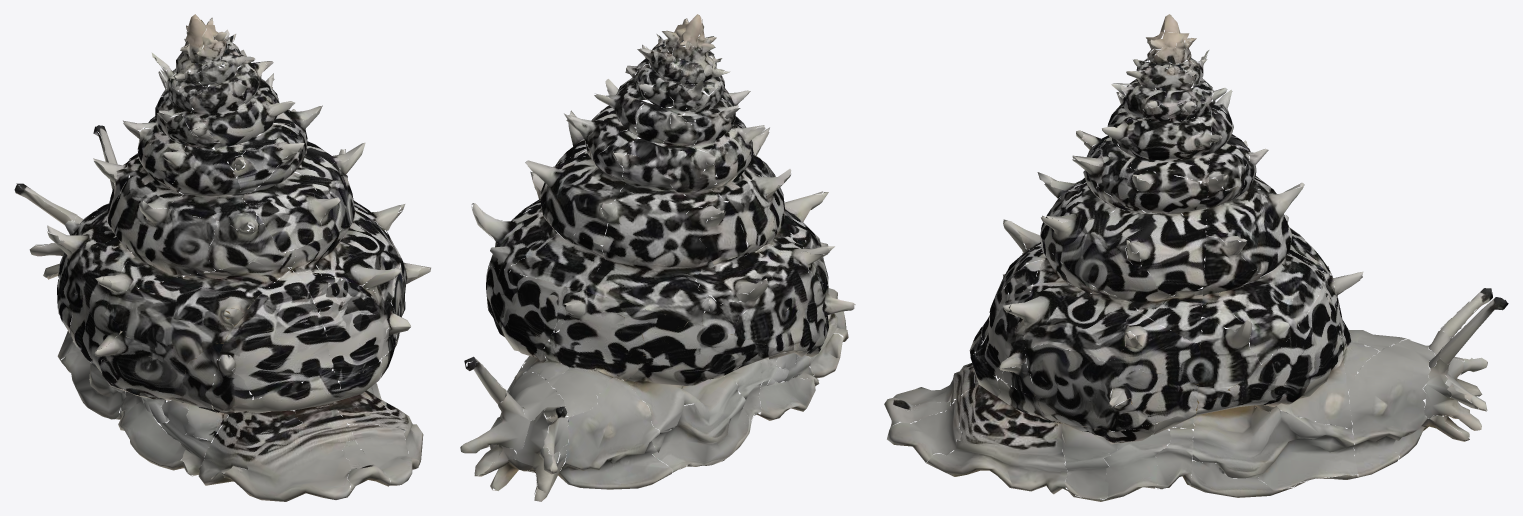
Rendered from pyramid_snail.glb.
3 renders of one model, left to right at view 1: azimuth 30°, elevation 25°; view 2: azimuth 150°, elevation 25°; view 3: azimuth 270°, elevation 25°, orthographic. The views are drawn at different scales.
Parts seen in each view (by area): view 1: tripo_node_659bcbec-3bbc-44ab-a3c4-04ab2b5dbf50; view 2: tripo_node_659bcbec-3bbc-44ab-a3c4-04ab2b5dbf50; view 3: tripo_node_659bcbec-3bbc-44ab-a3c4-04ab2b5dbf50.
Part boxes in pixels (<box>): tripo_node_659bcbec-3bbc-44ab-a3c4-04ab2b5dbf50: <box>14,14,430,501</box>; tripo_node_659bcbec-3bbc-44ab-a3c4-04ab2b5dbf50: <box>460,14,855,501</box>; tripo_node_659bcbec-3bbc-44ab-a3c4-04ab2b5dbf50: <box>884,14,1508,501</box>.
Size of the model in its own units: 0.6383 by 0.7327 by 1.
Materials: 1 (1 with a texture image).
